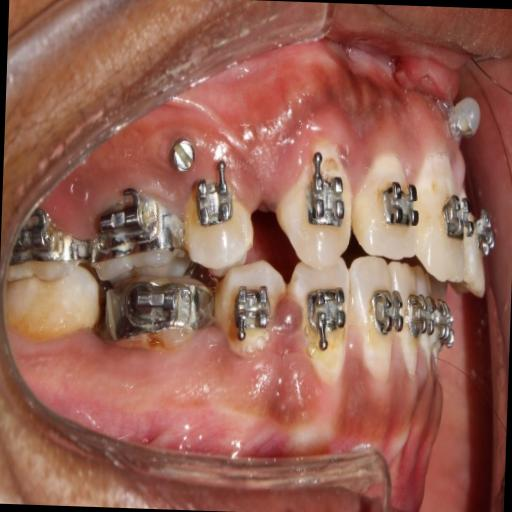correct_brace: (184, 162, 252, 272), (304, 170, 346, 234), (380, 180, 422, 225), (442, 187, 475, 242)
incorrect_brace: (350, 159, 417, 258), (194, 166, 236, 229)
